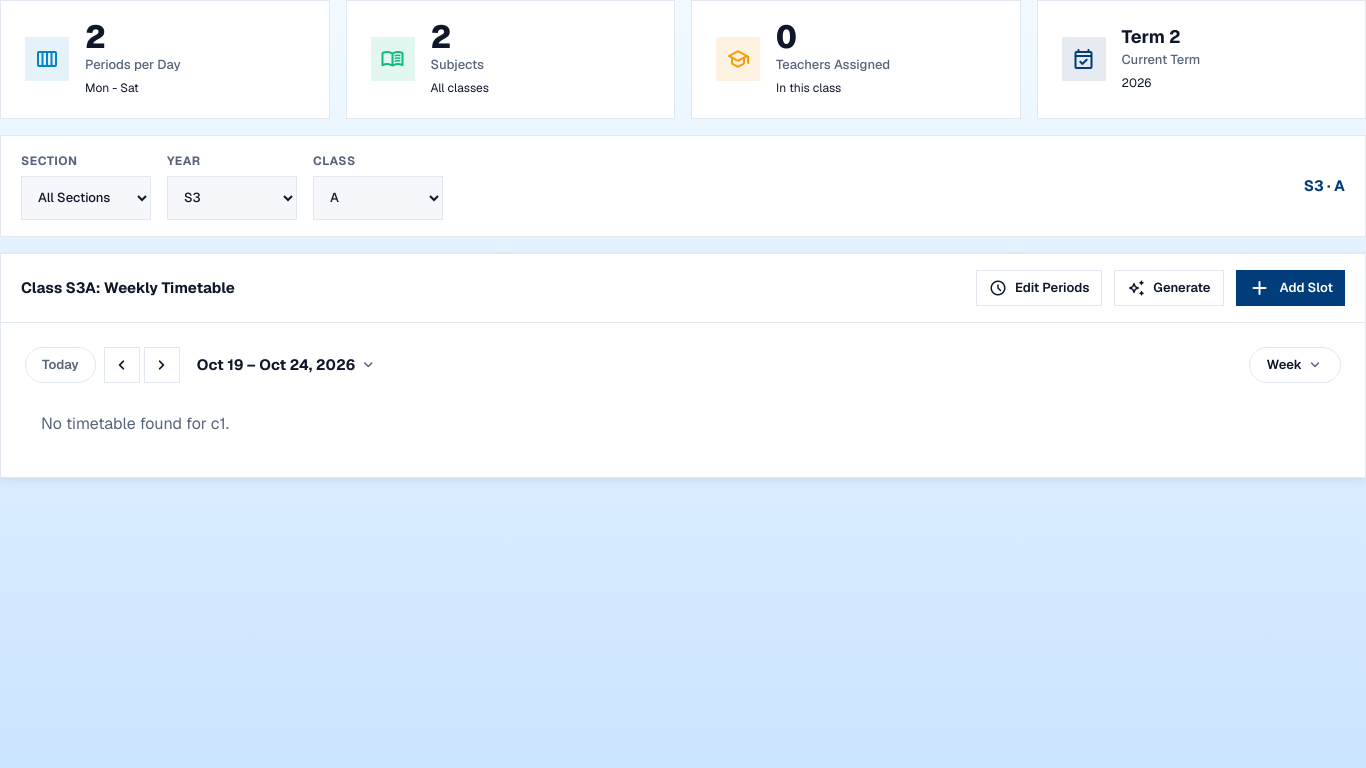
Test: DosTimetablePanel › refuses a period whose time cannot be read, without saving
The image size is (1366, 768).
Click the button "Edit Periods" at coordinates (1039, 288), box 976,270 -> 1102,306
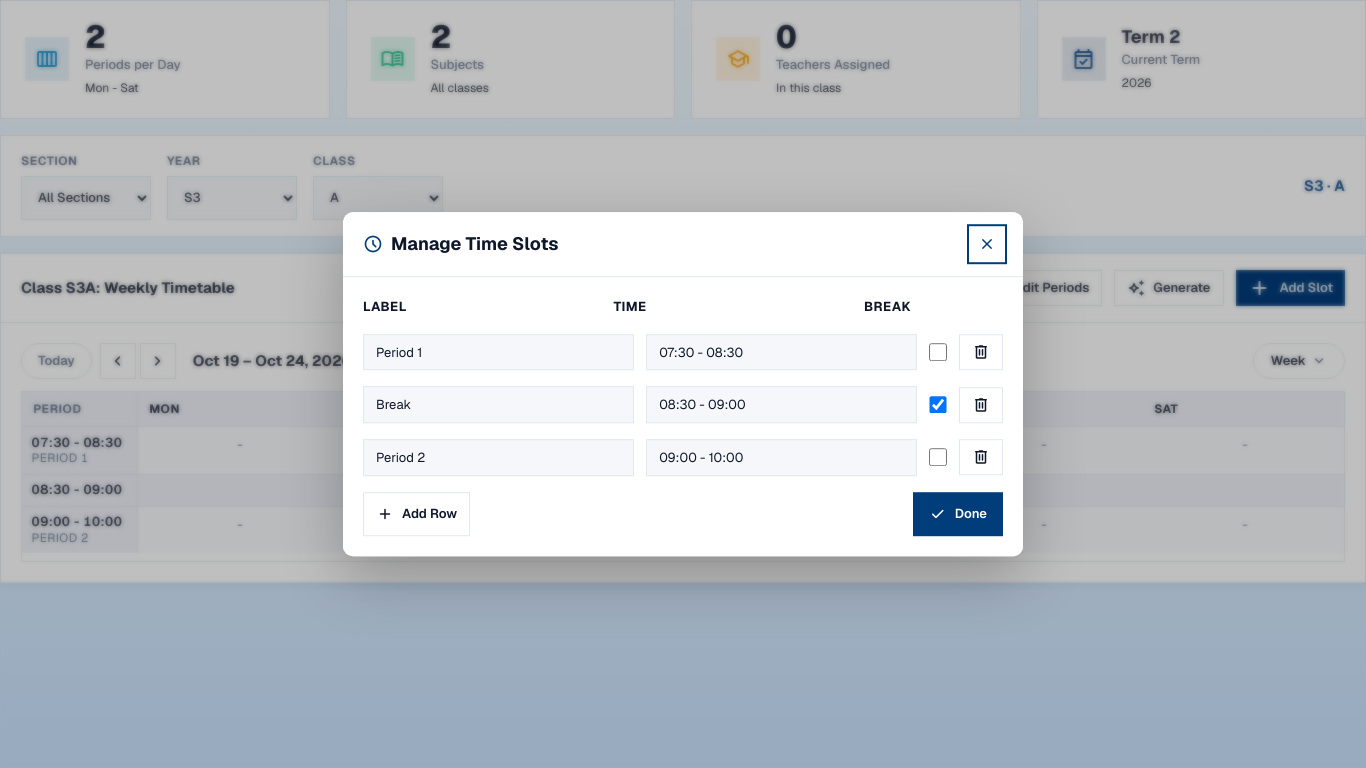
Replace the text in the 1st field showing "07:30 - 08:30" with "morning" at coordinates (782, 352), box 646,334 -> 917,371
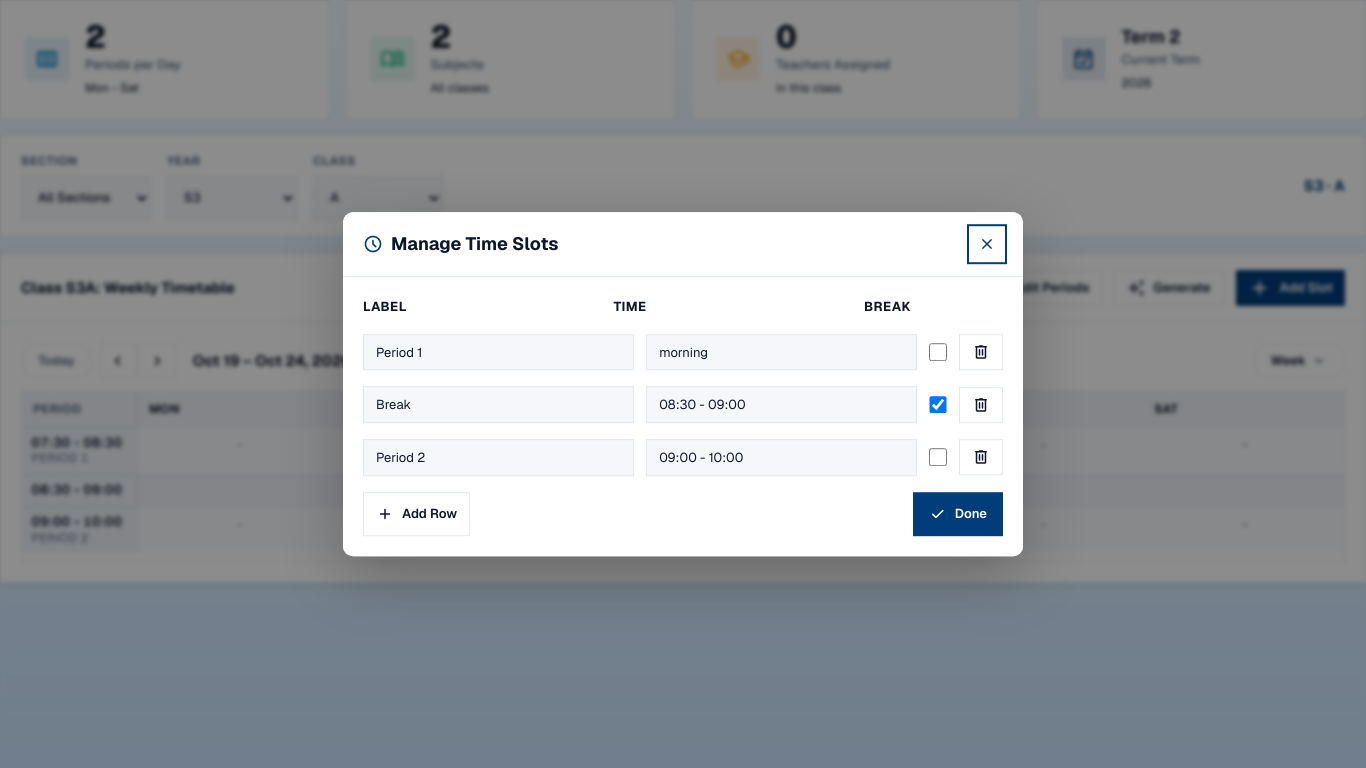
Click the button "Done" at coordinates (958, 514), box 913,492 -> 1003,536
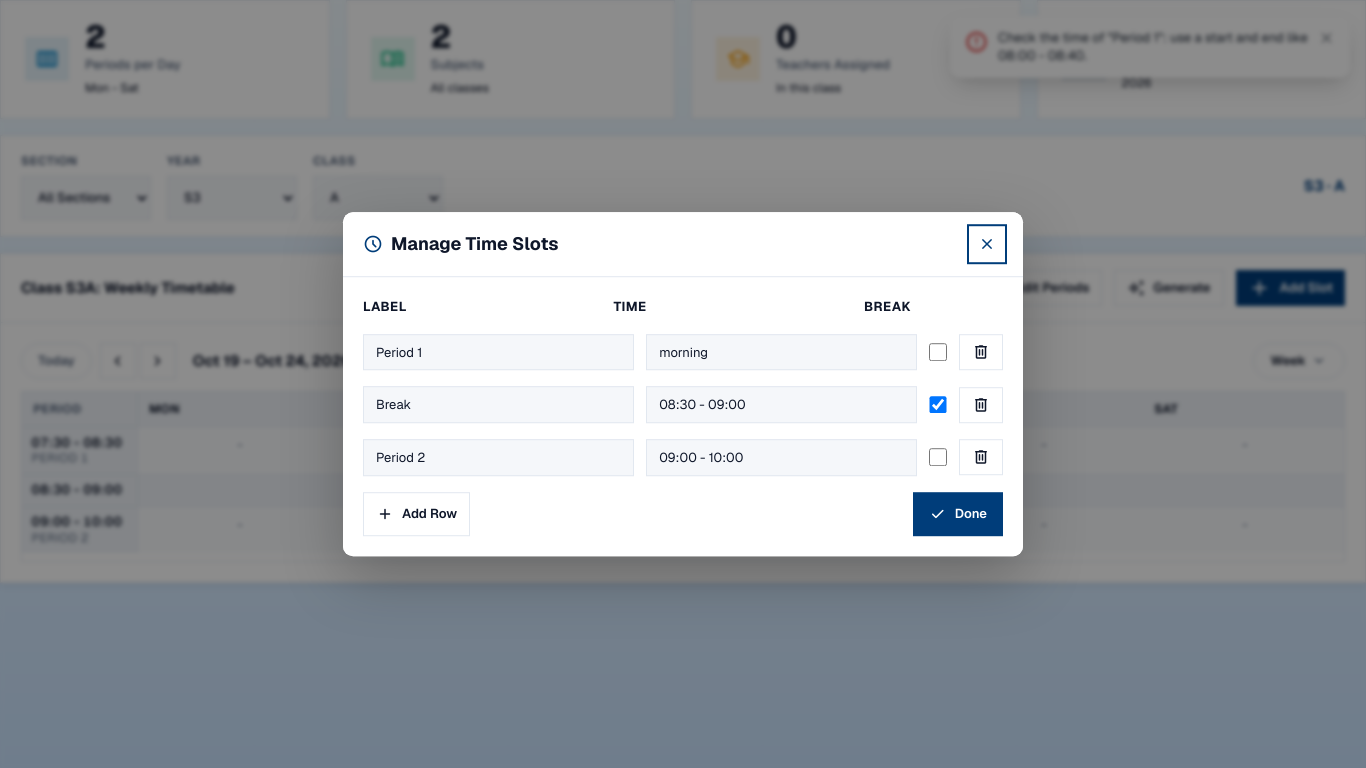
Now the text "Check the time of" is shown, box 998,29 -> 1308,64
